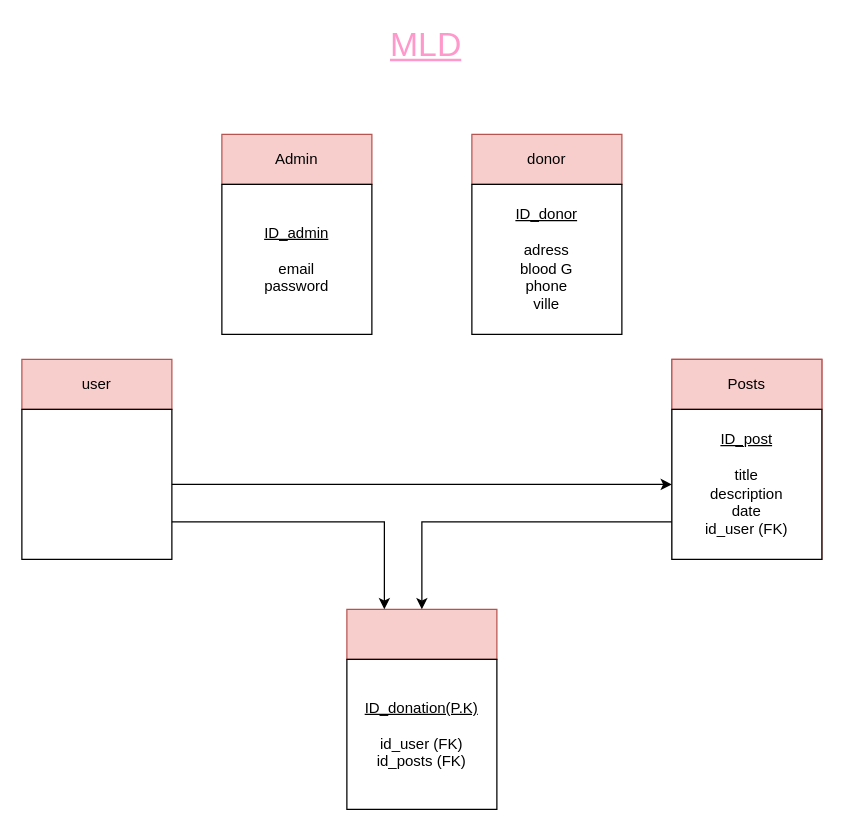
Image size: 844x831. Some labels were removed from this diagram. Each missing label, with the box of its shape:
Donation: (346, 608, 497, 659)
ID_user email password adress blood G phone: (21, 408, 172, 559)
